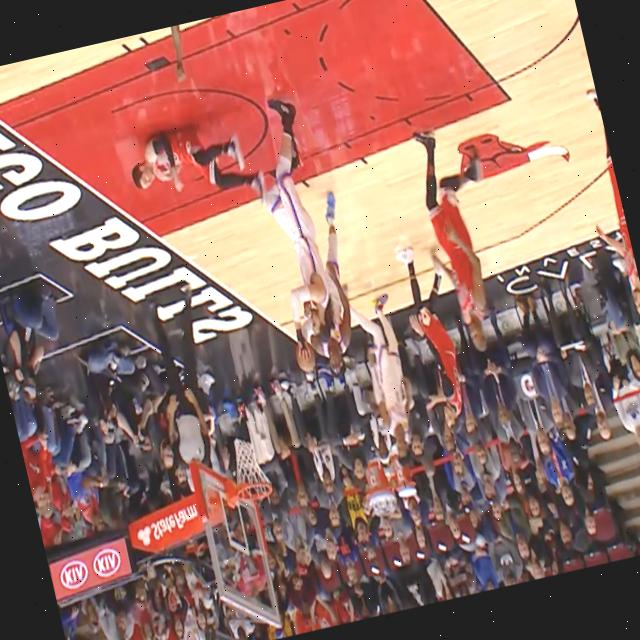foul: (116, 68, 361, 398)
